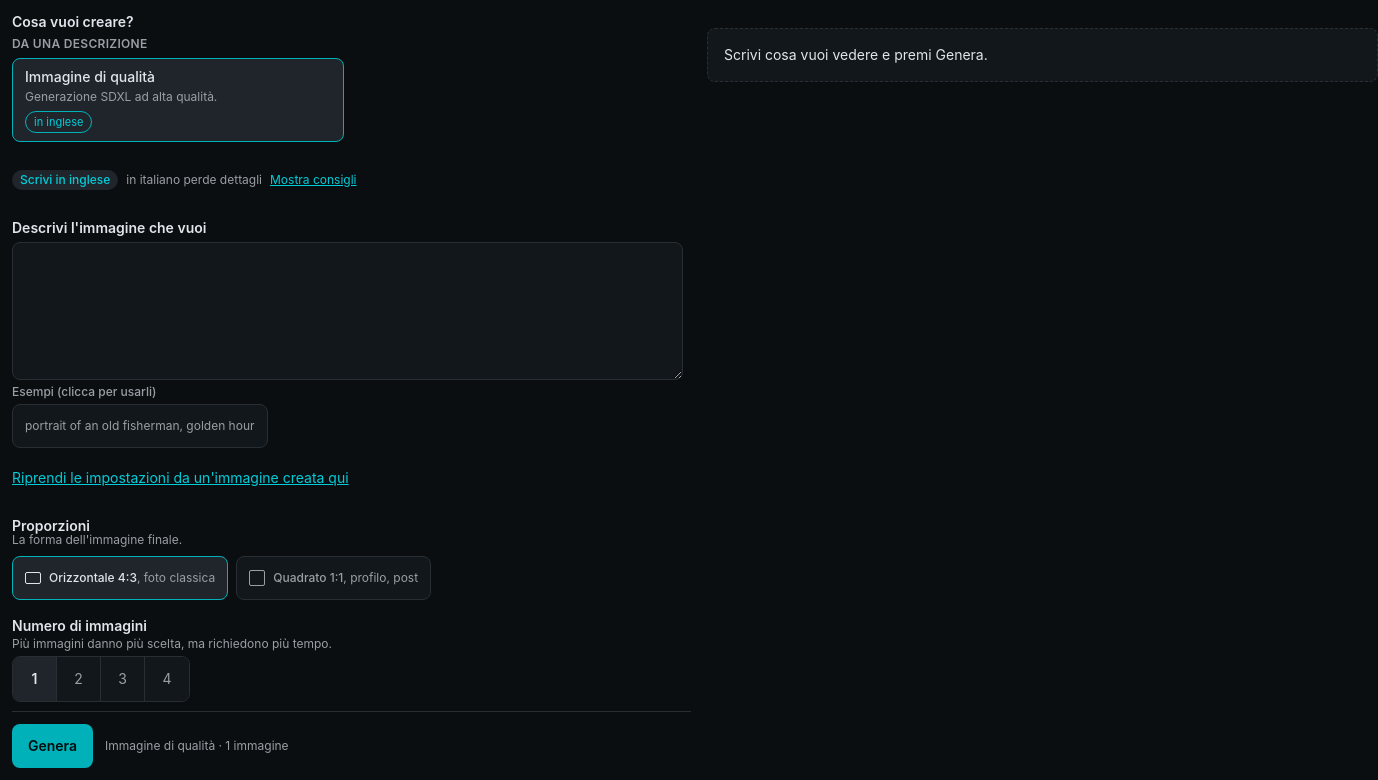
Test: CreatePage job lifecycle › shows the API error's own Italian message when job creation fails with an ApiError
Type "portrait of an old fisherman" into the text box labelled "Descrivi l'immagine che vuoi" at {"x": 348, "y": 311}, box [12, 242, 683, 380]
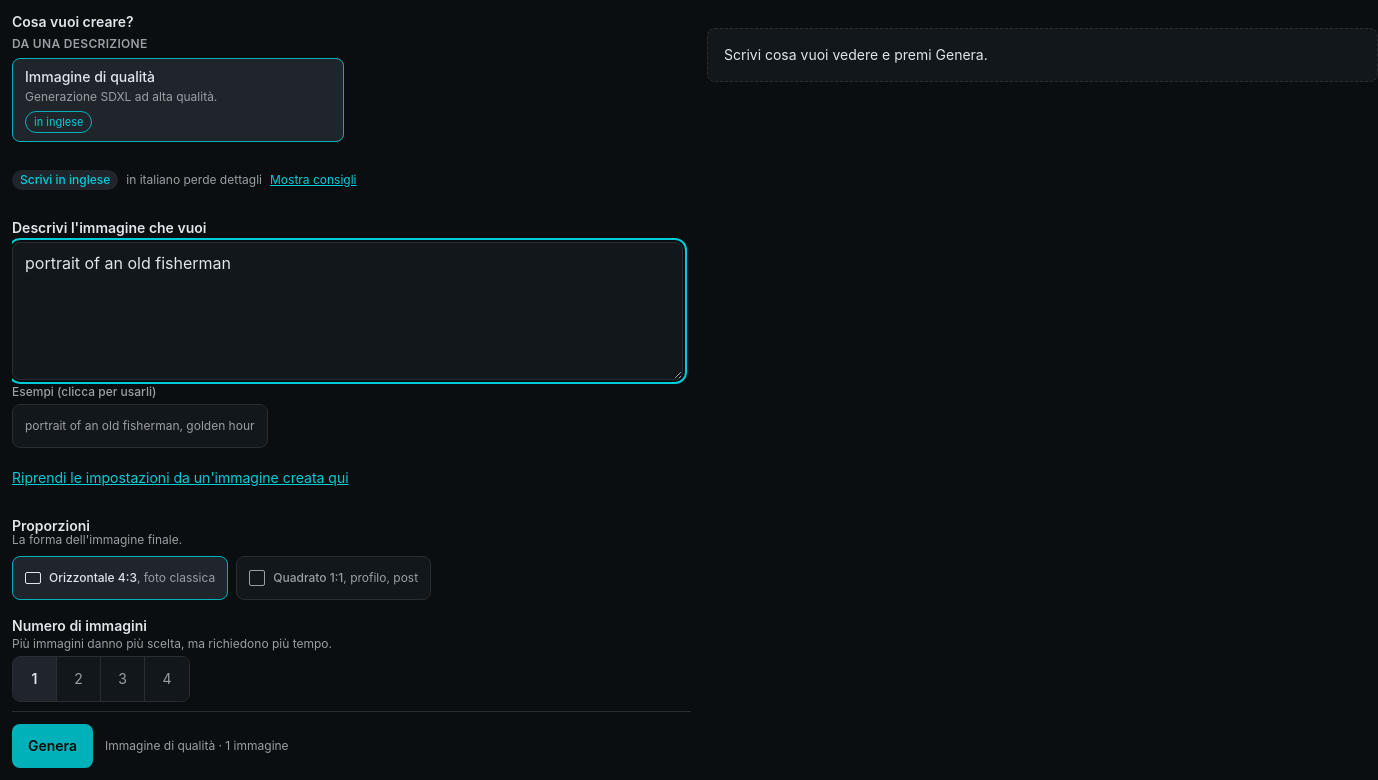
Click the button "Genera" at {"x": 53, "y": 746}, box [12, 724, 93, 768]
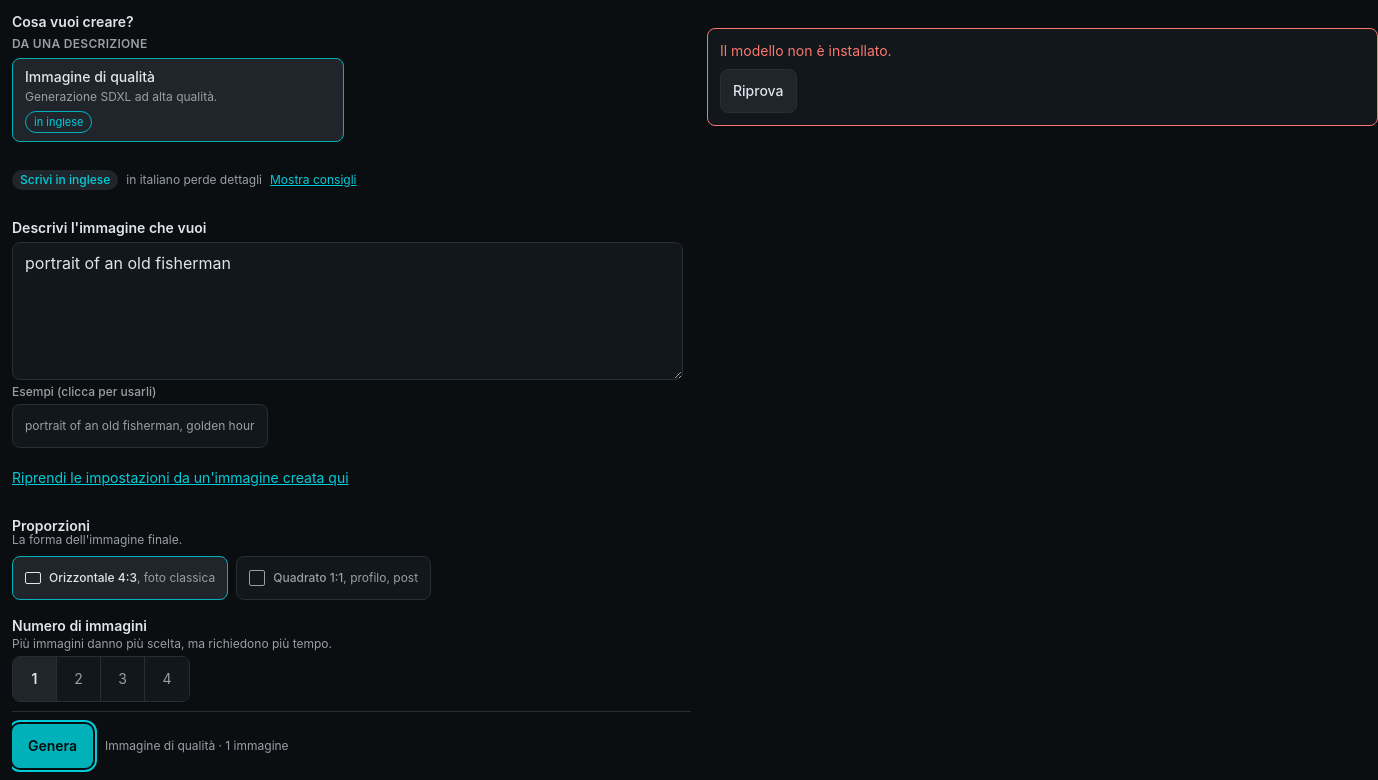
Expected: the text "Il modello non è installato." is shown, [720, 42, 892, 59]
